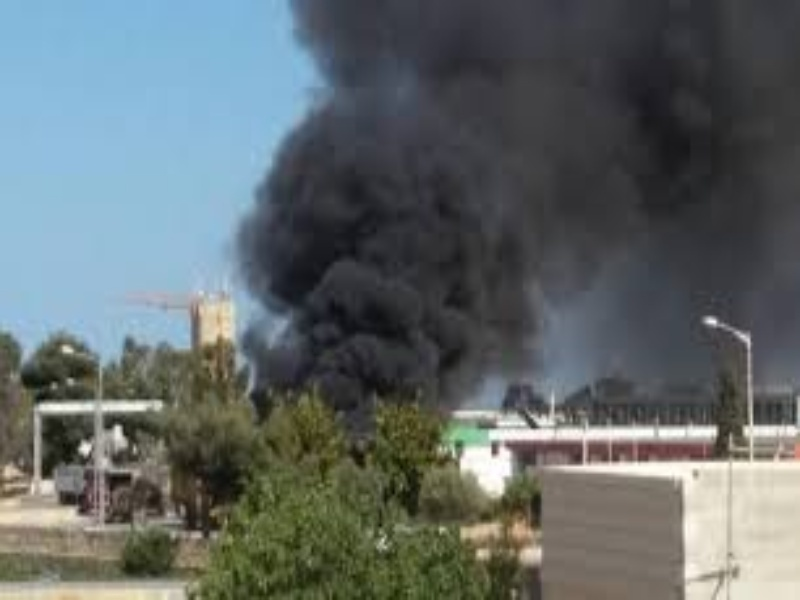smoke: (235, 1, 797, 404)
